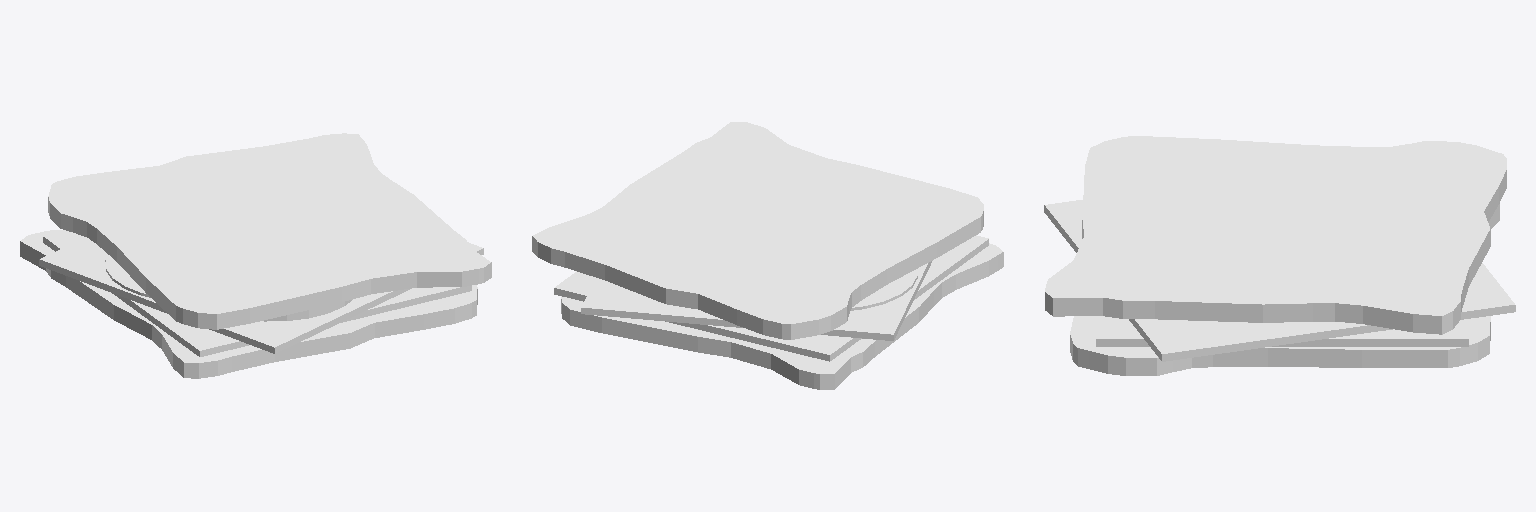
URDF robot description (sandwich):
<robot name="sandwich">
	<link name="_name">
		<visual>
			<origin rpy="0 0 0" xyz="-49.168378105 -46.16127 -16.2409" />
			<geometry>
				<mesh filename="sandwich/13add1d4cdcea59b73d0d75d212ea96b.obj" scale="1 1 1" />
			</geometry>
			<material name="texture">
				<color rgba="1.0 1.0 1.0 1.0" />
			</material>
		</visual>
		<collision>
			<geometry>
				<mesh filename="sandwich/13add1d4cdcea59b73d0d75d212ea96b_vhacd.obj" scale="1 1 1" />
			</geometry>
		<origin rpy="0 0 0" xyz="-49.168378105 -46.16127 -16.2409" /></collision>
		<inertial>
			<mass value="1.0" />
			<inertia ixx="1.0" ixy="0.0" ixz="0.0" iyy="1.0" iyz="0.0" izz="1.0" />
		</inertial>
	</link>
</robot>

--- What the picture shows (computed from the rendered views, not written in the file) ---
The picture shows the robot from 3 angles, left to right: view 1: azimuth 30°, elevation 25°; view 2: azimuth 150°, elevation 25°; view 3: azimuth 270°, elevation 25°; orthographic projection.
Robot: sandwich — 1 links, 0 joints (none); root link _name; default pose: every joint at zero.
Visible links, largest first — view 1: _name; view 2: _name; view 3: _name.
Boxes of the visible links, <box> form: _name: <box>20,133,491,378</box>; _name: <box>532,122,1003,389</box>; _name: <box>1044,136,1515,375</box>.
Size in the robot's own frame: 98.33 by 98.33 by 16.24 metres.
1 mesh visuals loaded from 1 distinct referenced files (1 OBJ).